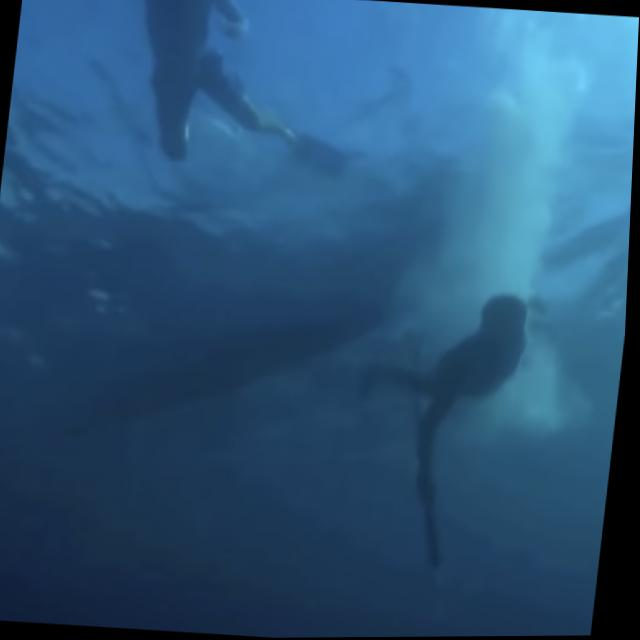human: (326, 275, 557, 592), (66, 0, 328, 183)
